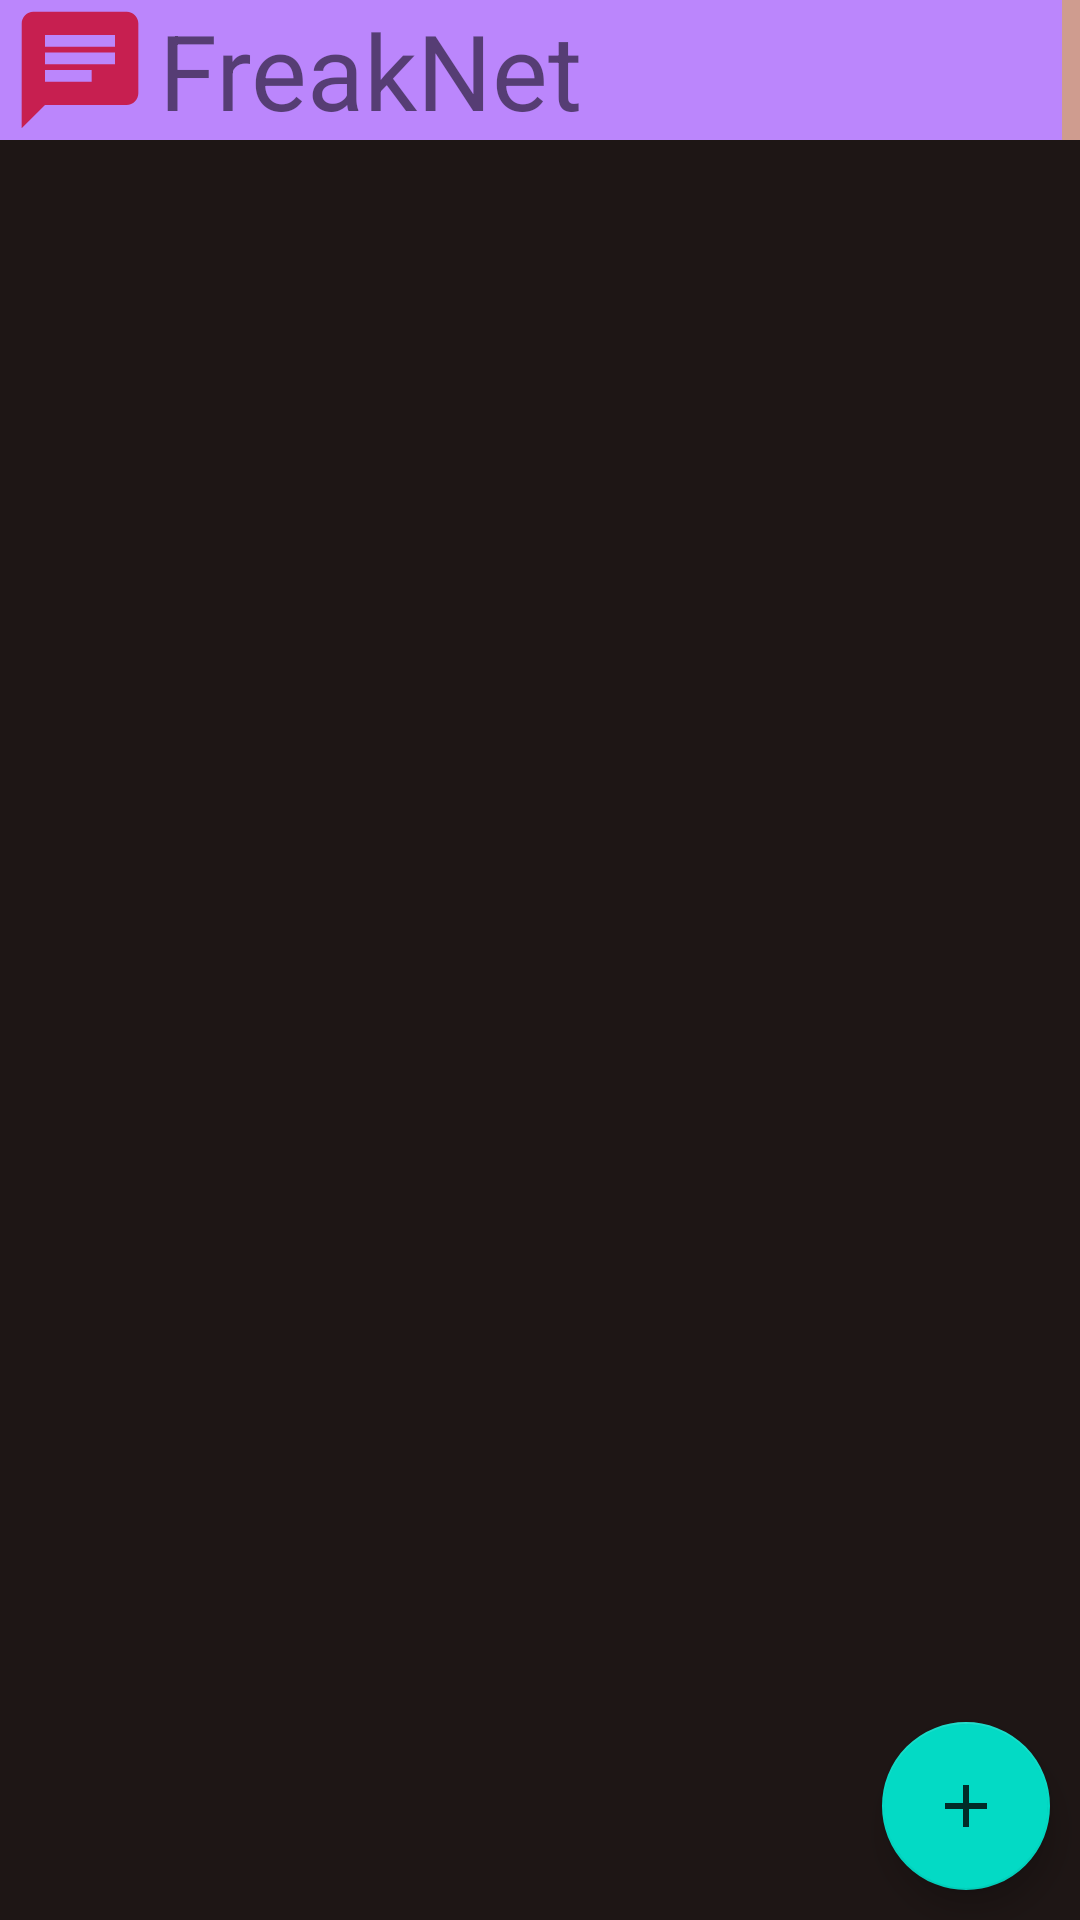

Named icons in this screenshot (1080x1920) and their centers, (x,y):
add: (966,1806)
chat: (80,69)
